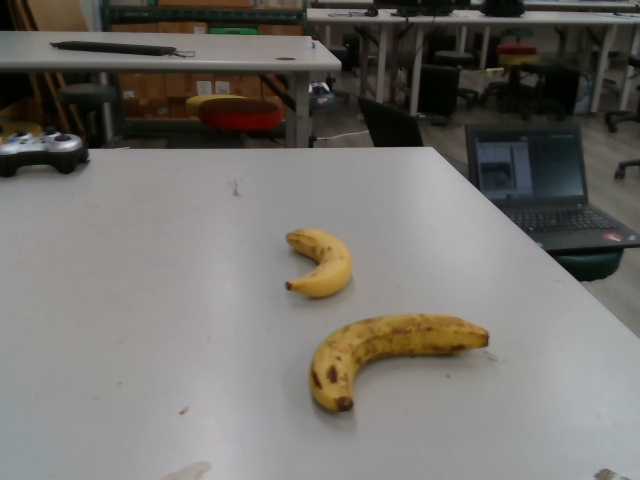banana: (307, 312, 490, 415), (281, 229, 353, 303)
